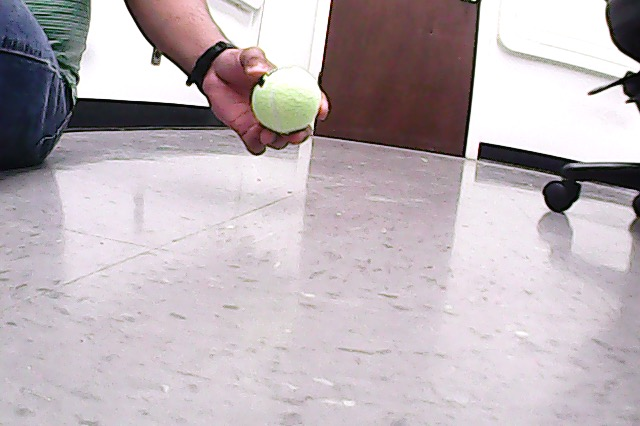ball: (253, 67, 321, 135)
